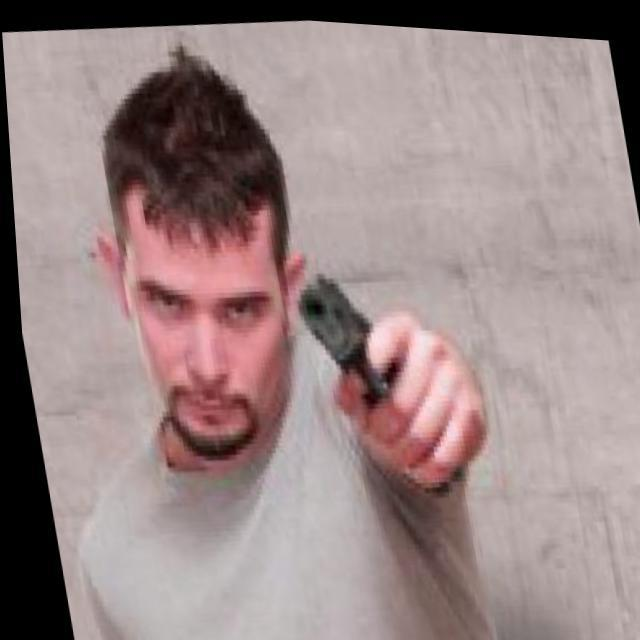weapon: (279, 250, 476, 507)
